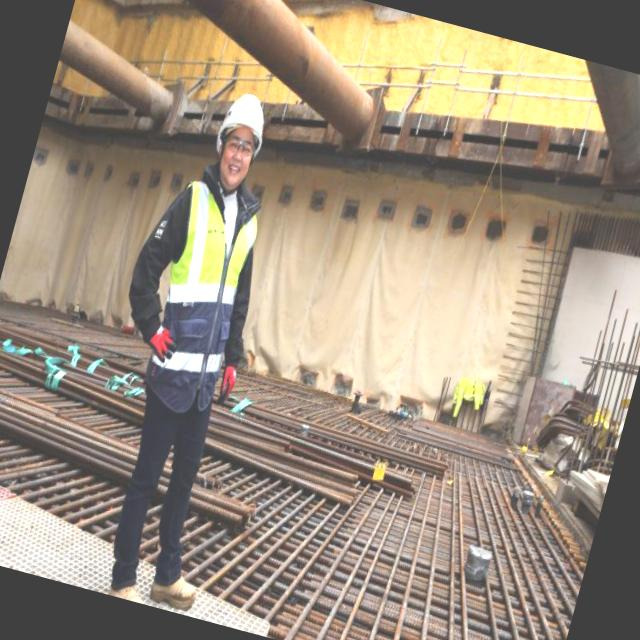helmet: (206, 82, 284, 162)
vest: (128, 175, 276, 422)
